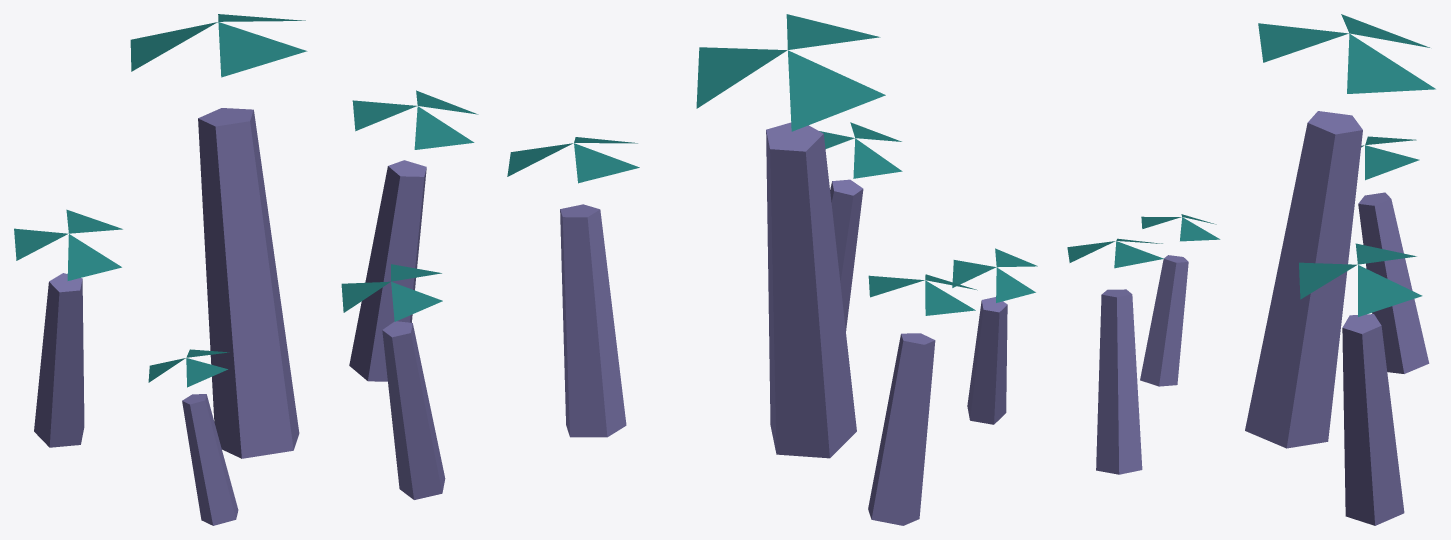
The model's file is plant_glow_shroom_yellow.fbx.
The picture shows the model from 3 angles, left to right: view 1: azimuth 30°, elevation 25°; view 2: azimuth 150°, elevation 25°; view 3: azimuth 270°, elevation 25°; orthographic projection. The views are drawn at different scales.
Visible parts, largest first — view 1: plant_glow_shroom_yellow; view 2: plant_glow_shroom_yellow; view 3: plant_glow_shroom_yellow.
Part boxes in pixels (<box>): plant_glow_shroom_yellow: <box>14,14,478,525</box>; plant_glow_shroom_yellow: <box>507,14,1037,525</box>; plant_glow_shroom_yellow: <box>1067,14,1435,525</box>.
Size of the model in its own units: 526 by 446 by 375.
Materials: 1 (1 with a texture image).
